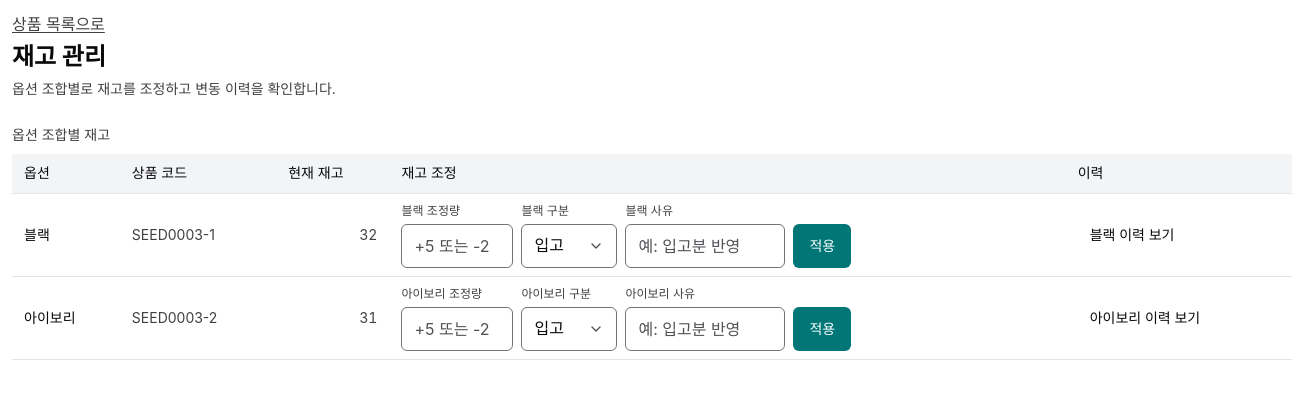
Test: F8 · U2 — what the screen can refuse on its own › refuses an empty box on the field, without asking the server
This screenshot has width=1292, height=407.
Clear the field labelled "블랙 조정량" at [457, 246], box [401,224,513,268]
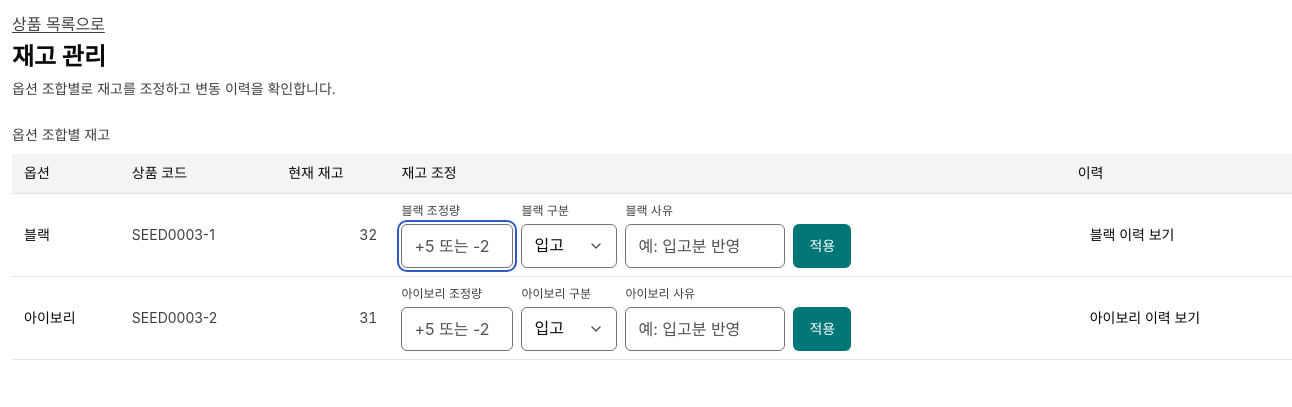
Click the button "적용" below "블랙 구분" at [822, 246], box [793,224,851,268]
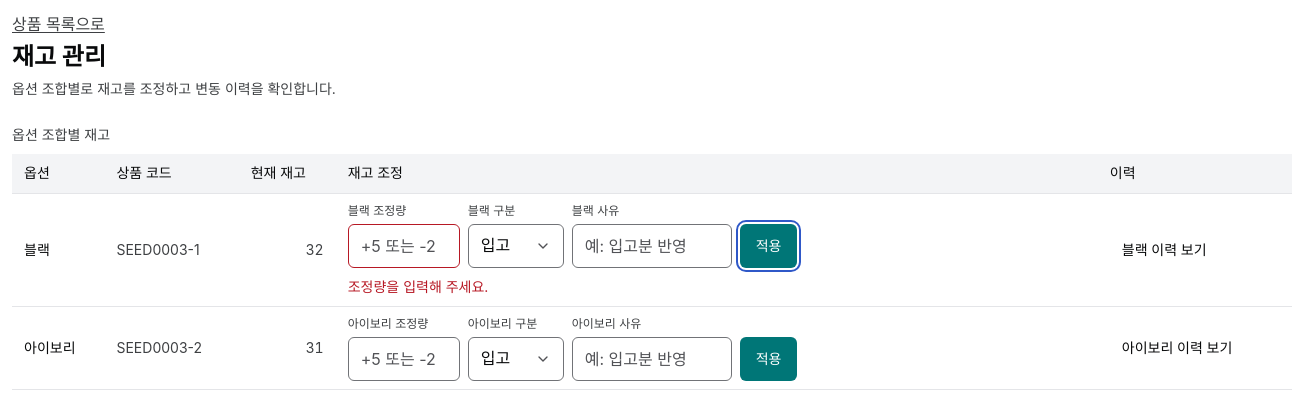
Check: the message reads "조정량을 입력해 주세요.", box [348,278,488,295]
